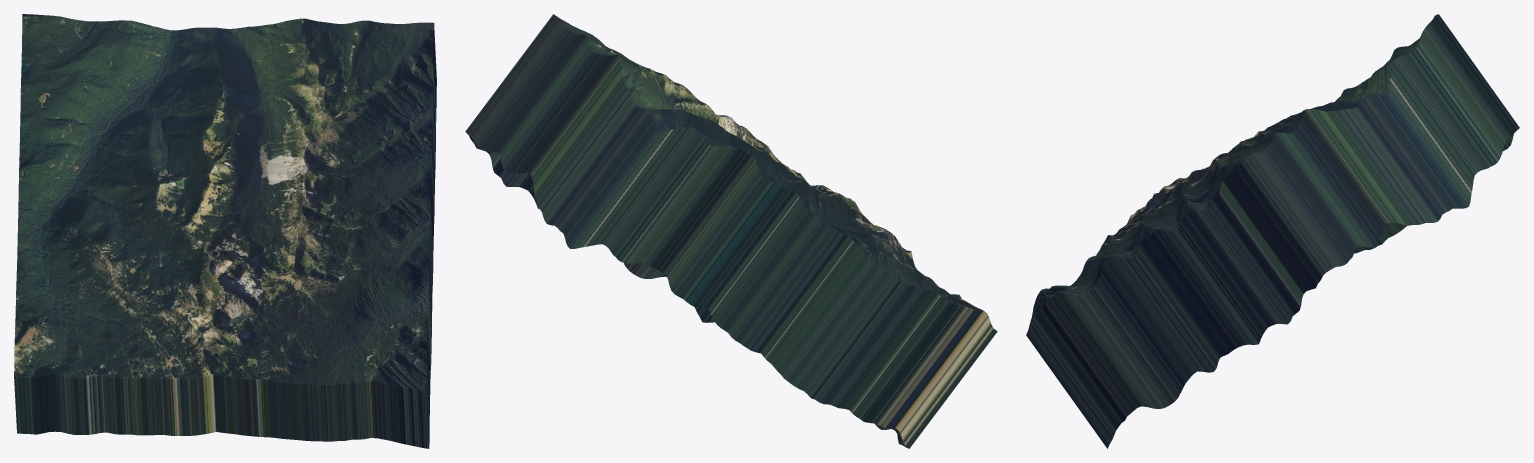
The picture shows the model from 3 angles, left to right: view 1: azimuth 30°, elevation 25°; view 2: azimuth 150°, elevation 25°; view 3: azimuth 270°, elevation 25°; orthographic projection. The views are drawn at different scales.
Bounding box in the file's own units: 11106 × 7856 × 10585.
Materials: 1 (1 with a texture image).
